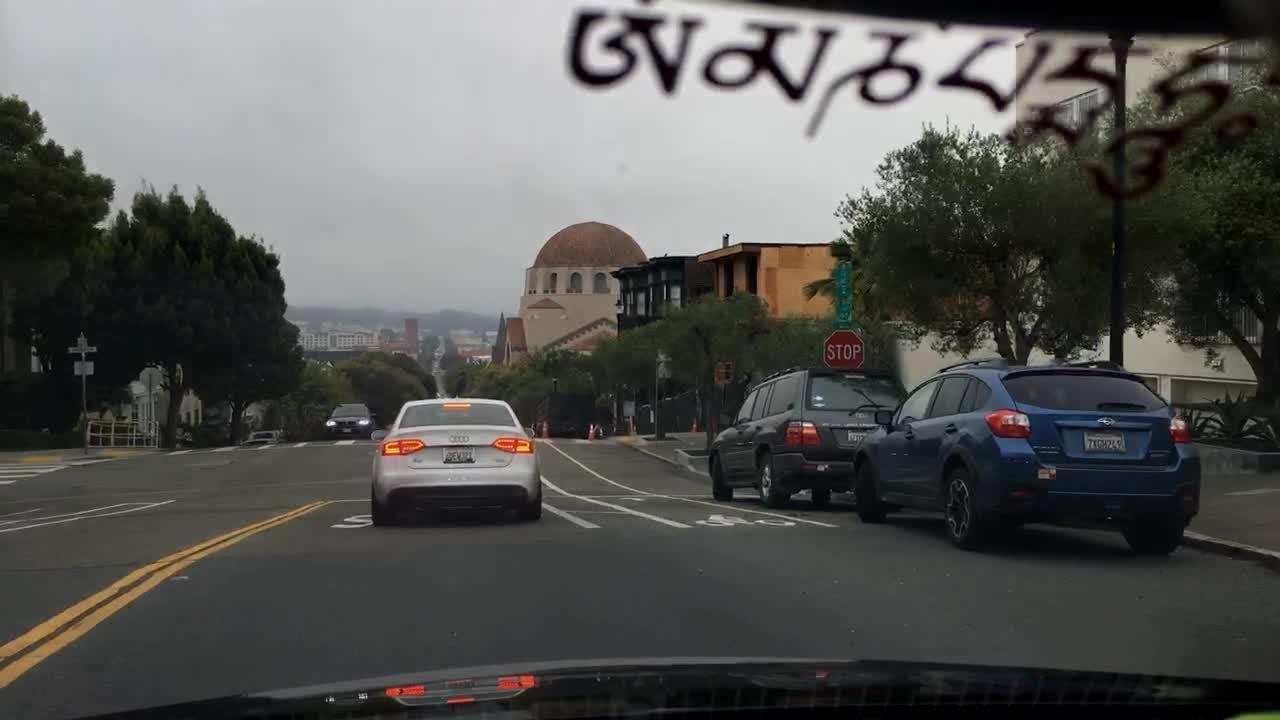Audi: (446, 430, 474, 446)
subaru: (1095, 413, 1119, 432)
